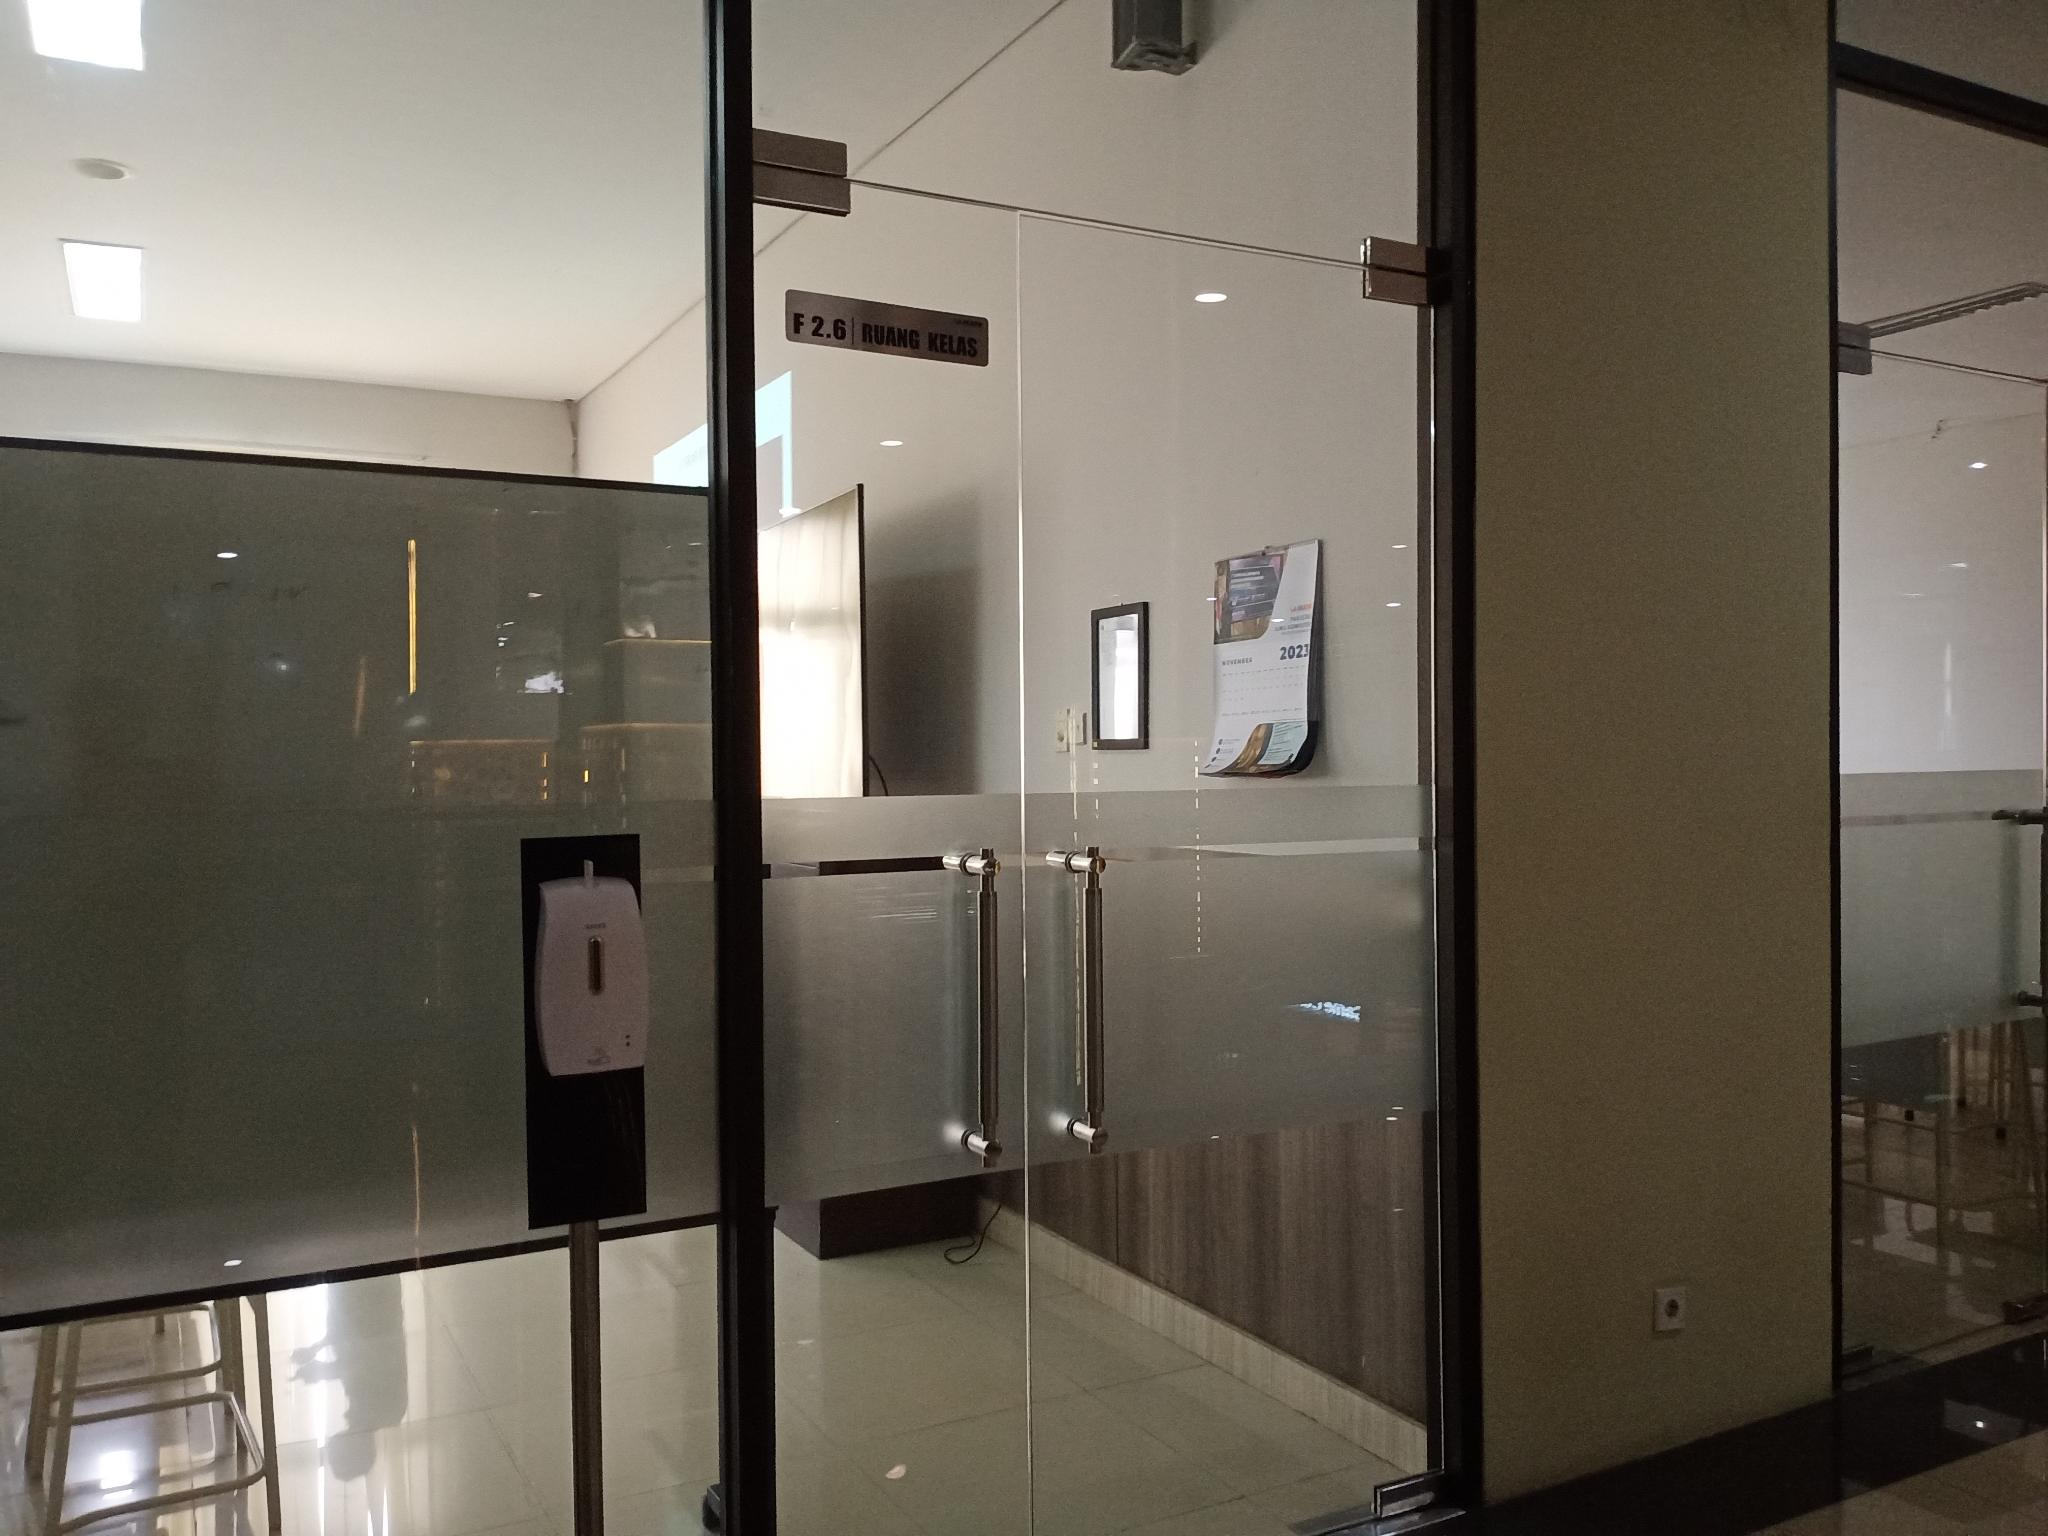plate: (785, 289, 987, 368)
